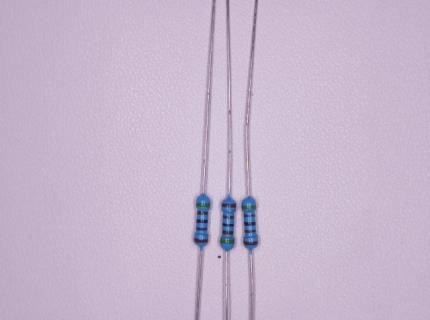Black band: (222, 223, 233, 227), (244, 222, 255, 226), (196, 220, 208, 223)
Brown band: (194, 237, 208, 243), (221, 203, 236, 208), (244, 241, 257, 246), (197, 211, 208, 215), (223, 215, 234, 219), (222, 231, 233, 235), (197, 227, 207, 231), (245, 214, 255, 218), (245, 229, 255, 233)
Green band: (221, 238, 234, 244), (196, 202, 210, 207), (242, 205, 256, 210)
